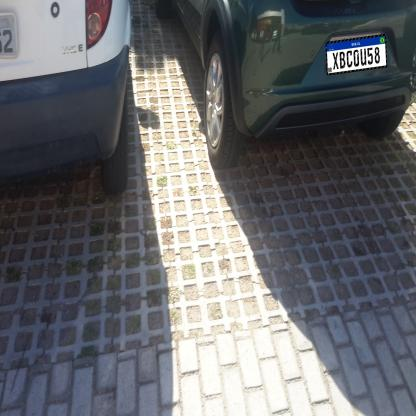PlacaM: (326, 34, 388, 75)
